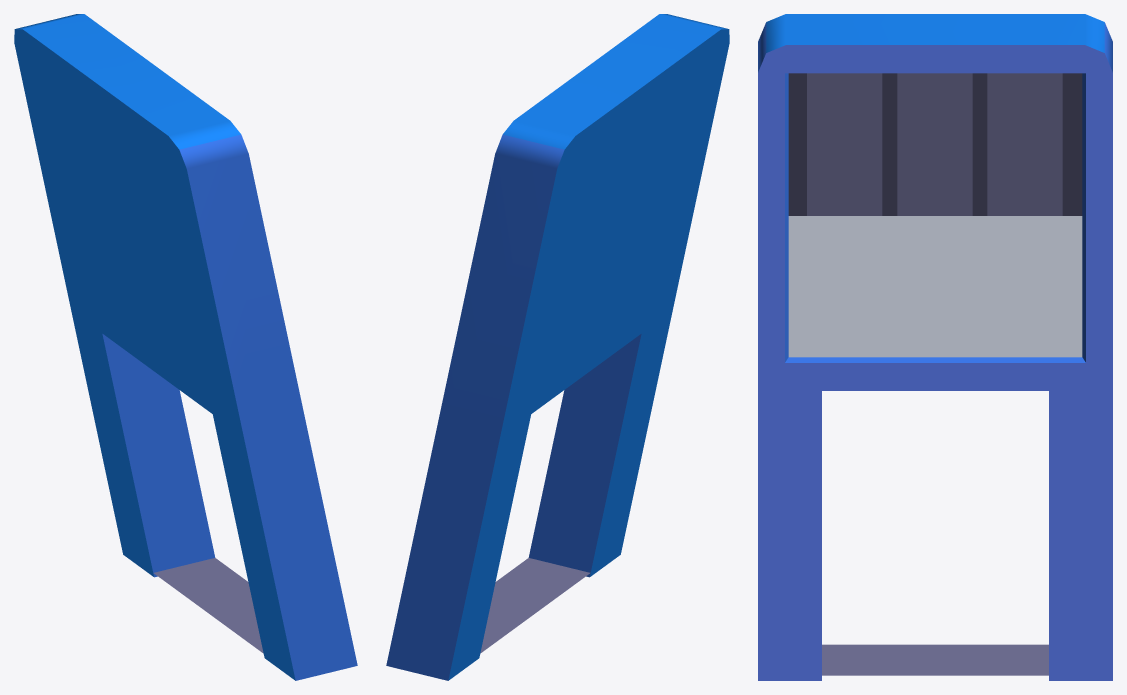
File: Sign_Airport.fbx
3 views of the same model, side by side, from view 1: azimuth 30°, elevation 25°; view 2: azimuth 150°, elevation 25°; view 3: azimuth 270°, elevation 25° (orthographic). The views are drawn at different scales.
Parts seen in each view (by area): view 1: Sign_Airport; view 2: Sign_Airport; view 3: Sign_Airport.
Part boxes in pixels (x1=…): Sign_Airport: x1=14, y1=14, x2=357, y2=680; Sign_Airport: x1=386, y1=14, x2=729, y2=680; Sign_Airport: x1=758, y1=14, x2=1112, y2=680.
Bounding box in the file's own units: 9.01 × 27.54 × 15.3.
